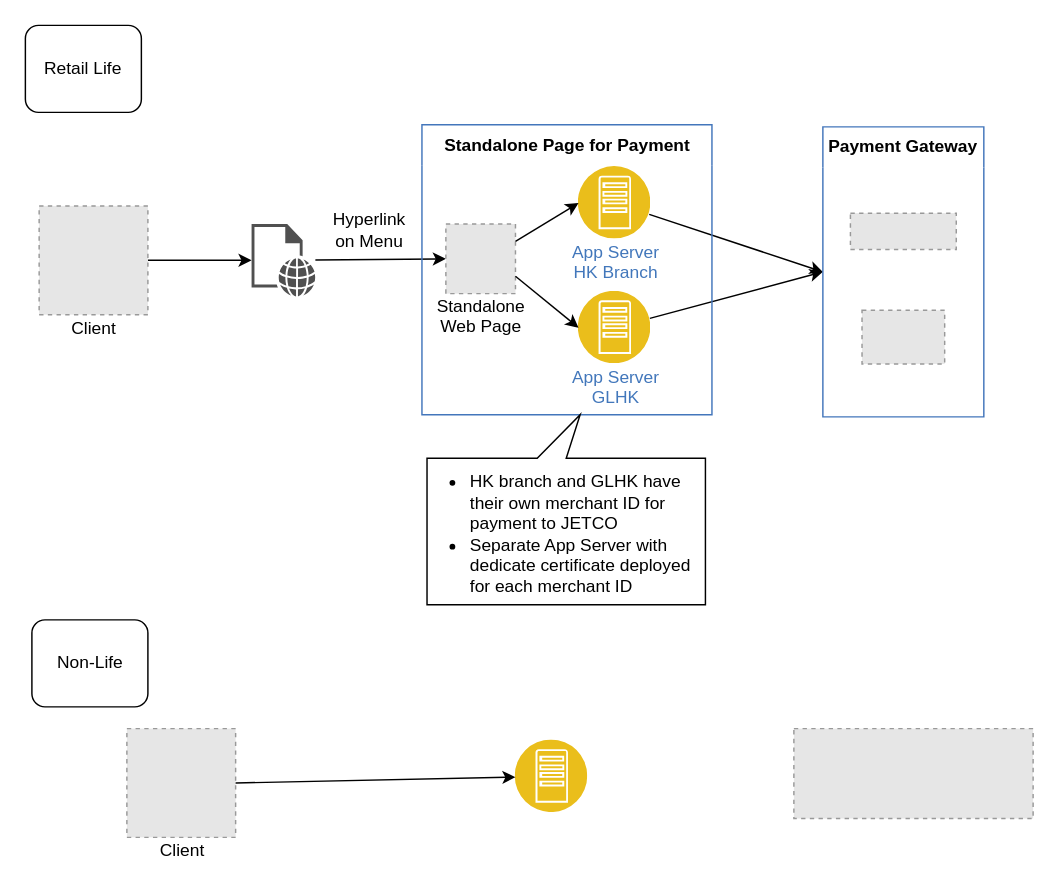
This 1059x886 diagram has some shape labels left out. Grey dashed boxes stand in for pictures. Each missing label, with the centre of its shape:
Bravo: the point at 551,776
Company Public Website: the point at 283,259
